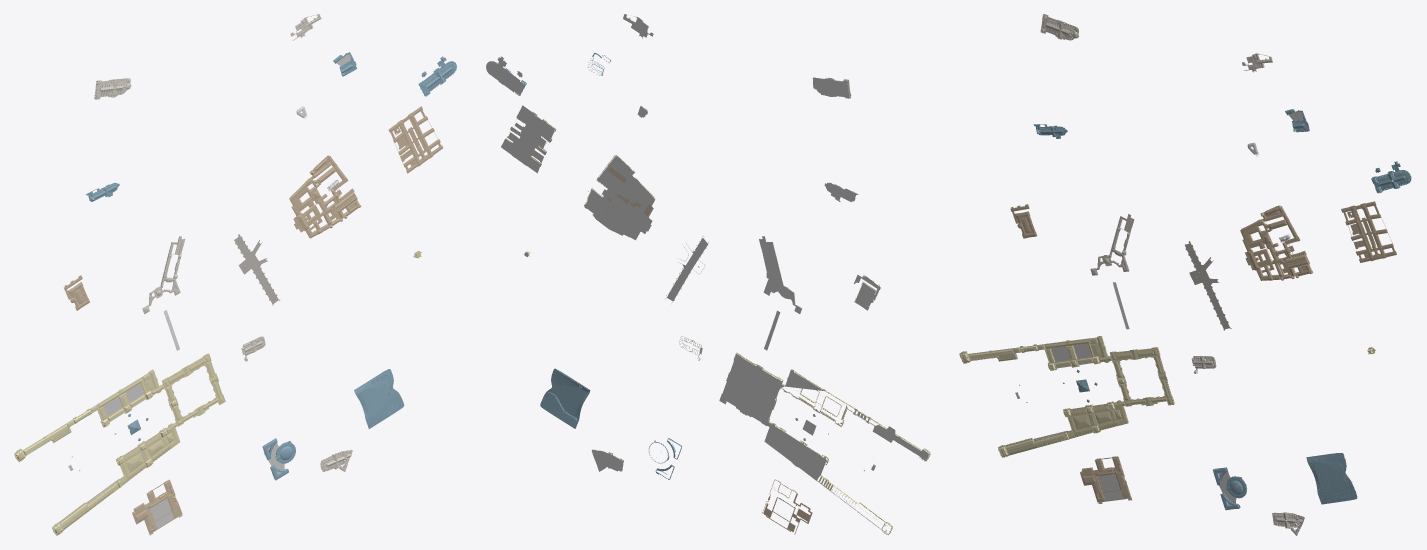
3 renders of one model, left to right at view 1: azimuth 30°, elevation 25°; view 2: azimuth 150°, elevation 25°; view 3: azimuth 330°, elevation 25°, orthographic.
Bounding box in the file's own units: 7638 × 7902 × 75.16.
